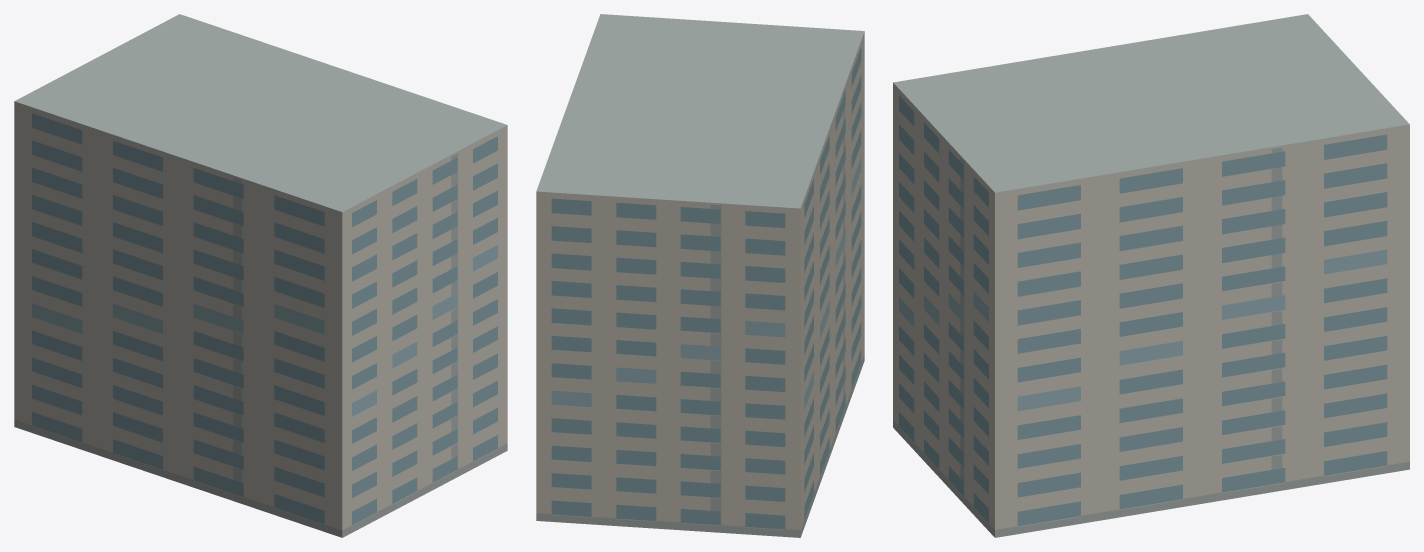
Rendered from residential-20b1f3d3-378c-4688-831c-2b5394b2811d.glb.
3 views of the same model, side by side, from view 1: azimuth 30°, elevation 25°; view 2: azimuth 150°, elevation 25°; view 3: azimuth 270°, elevation 25° (orthographic). The views are drawn at different scales.
Visible parts, largest first — view 1: residential-20b1f3d3-378c-4688-831c-2b5394b2811d.tmp; view 2: residential-20b1f3d3-378c-4688-831c-2b5394b2811d.tmp; view 3: residential-20b1f3d3-378c-4688-831c-2b5394b2811d.tmp.
Part boxes in pixels (box(x1,y1,x2,y2)): residential-20b1f3d3-378c-4688-831c-2b5394b2811d.tmp: box(14, 14, 507, 537); residential-20b1f3d3-378c-4688-831c-2b5394b2811d.tmp: box(536, 14, 864, 537); residential-20b1f3d3-378c-4688-831c-2b5394b2811d.tmp: box(893, 14, 1409, 537).
Bounding box in the file's own units: 44.42 × 40 × 54.27.
